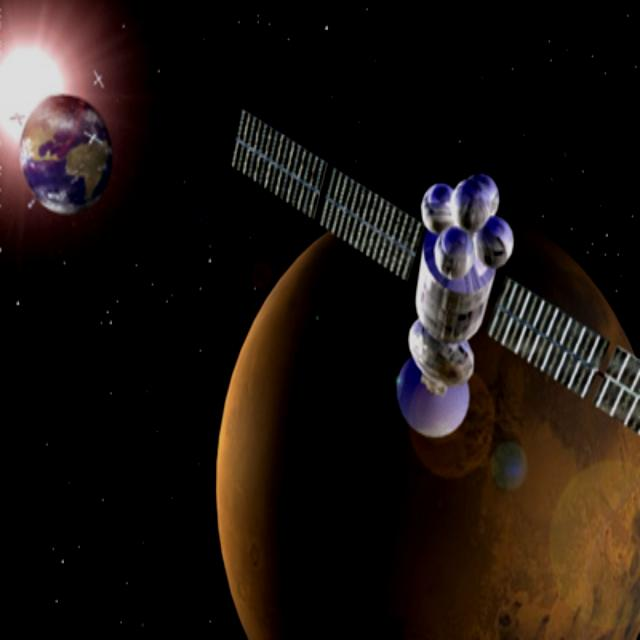medium_debris: (200, 76, 640, 492)
